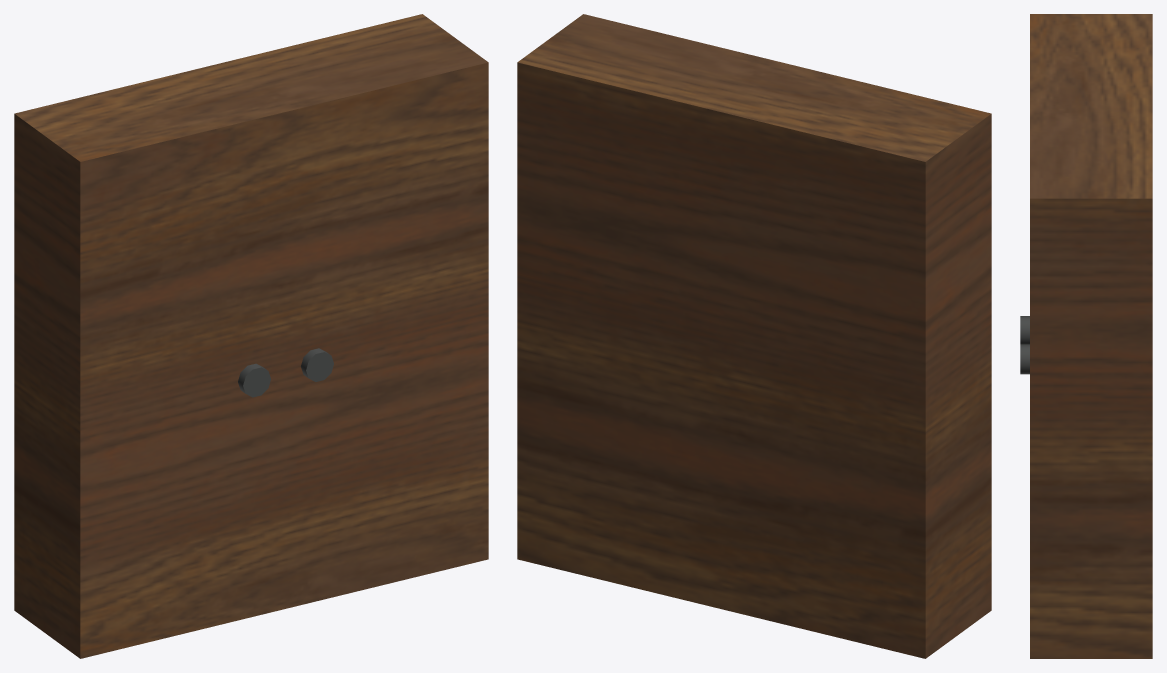
File: Closet.fbx
The picture shows the model from 3 angles, left to right: view 1: azimuth 30°, elevation 25°; view 2: azimuth 150°, elevation 25°; view 3: azimuth 270°, elevation 25°; orthographic projection. The views are drawn at different scales.
Visible parts, largest first — view 1: RT_IP_Furniture:Closet, RT_IP_Furniture:Doorknob, RT_IP_Furniture:Doorknob1; view 2: RT_IP_Furniture:Closet; view 3: RT_IP_Furniture:Closet, RT_IP_Furniture:Doorknob1, RT_IP_Furniture:Doorknob.
Boxes of the visible parts, x1,y1,x2,y2 form: RT_IP_Furniture:Closet: [14, 14, 488, 658]; RT_IP_Furniture:Doorknob: [238, 363, 270, 397]; RT_IP_Furniture:Doorknob1: [301, 348, 333, 381]; RT_IP_Furniture:Closet: [517, 14, 991, 658]; RT_IP_Furniture:Closet: [1030, 14, 1152, 658]; RT_IP_Furniture:Doorknob1: [1020, 344, 1029, 374]; RT_IP_Furniture:Doorknob: [1020, 316, 1029, 344].
Size of the model in its own units: 1.98 by 2.3 by 0.5987.
